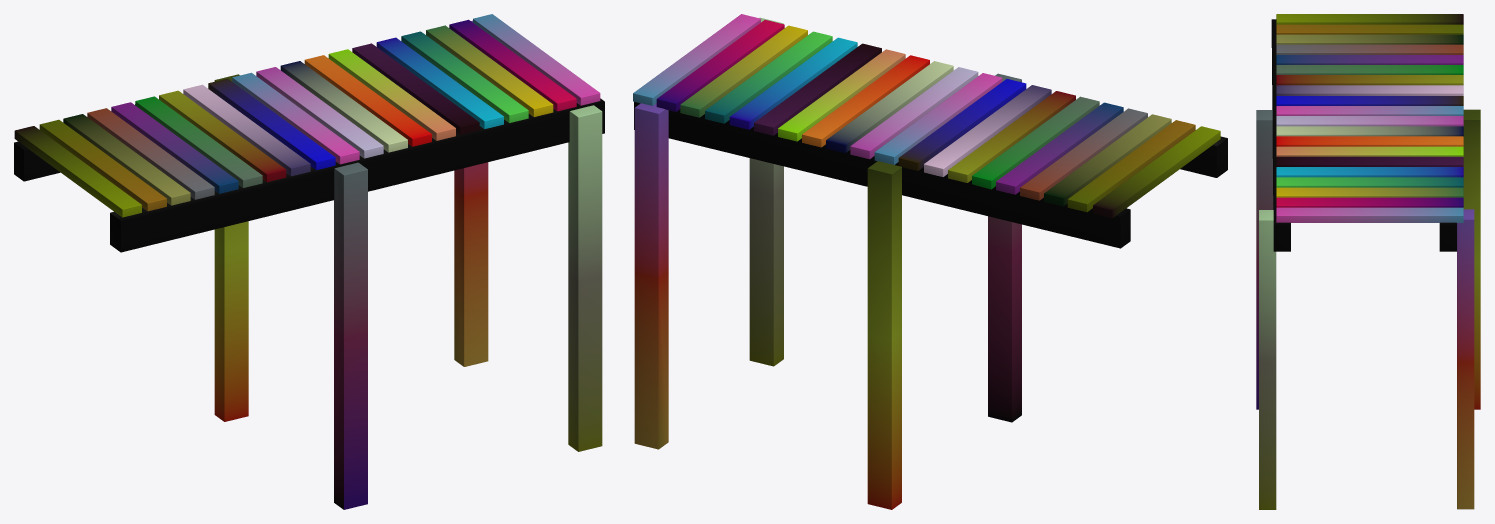
Rendered from Bridge_Wooden_1.fbx.
3 renders of one model, left to right at view 1: azimuth 30°, elevation 25°; view 2: azimuth 150°, elevation 25°; view 3: azimuth 270°, elevation 25°, orthographic. The views are drawn at different scales.
Parts seen in each view (by area): view 1: Cube.002; view 2: Cube.002; view 3: Cube.002.
Boxes of the visible parts, <box> form: Cube.002: <box>14,14,604,509</box>; Cube.002: <box>633,14,1227,509</box>; Cube.002: <box>1256,14,1480,509</box>.
Size of the model in its own units: 679 by 460 by 314.
